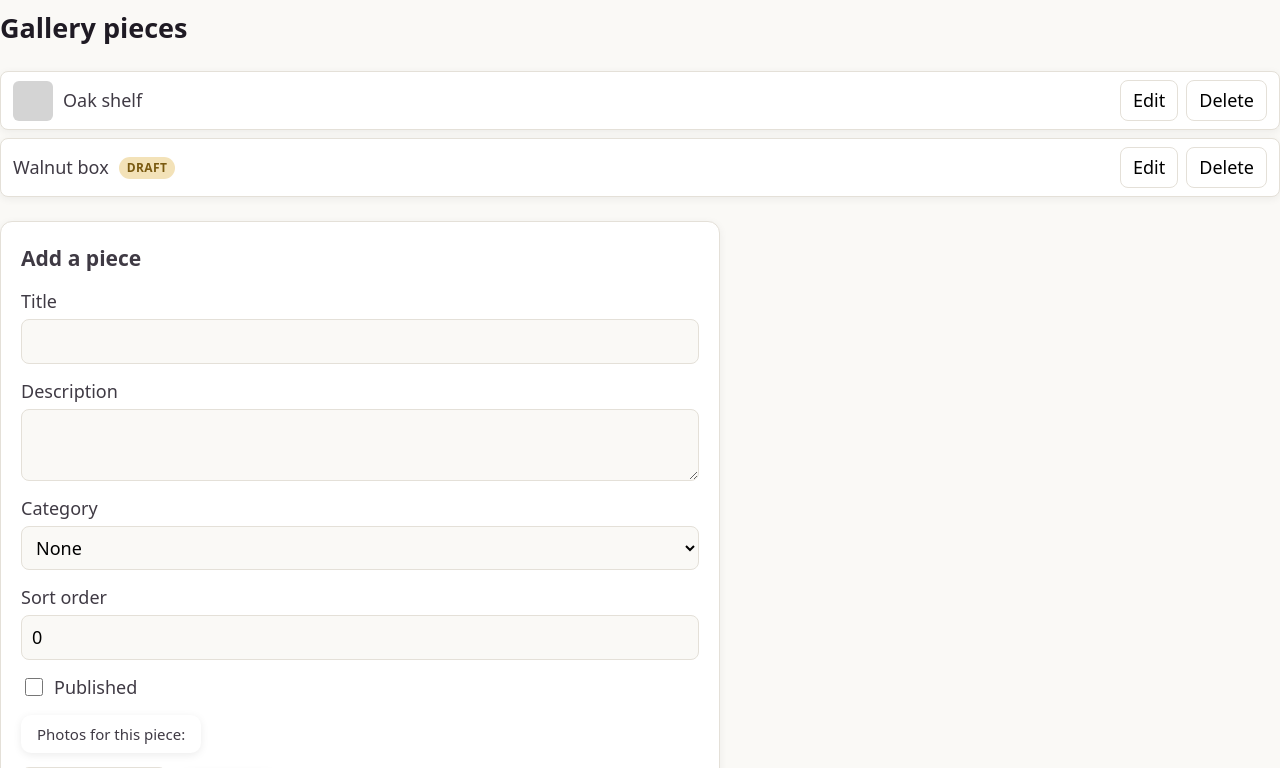
GalleryPanel › shows a save failure message
Expected: the text "Oak shelf" is shown, [13,81,142,121]
Type "Fails" into the field labelled "Title" at (360, 341), box [21,319,699,364]
(page scrolled)
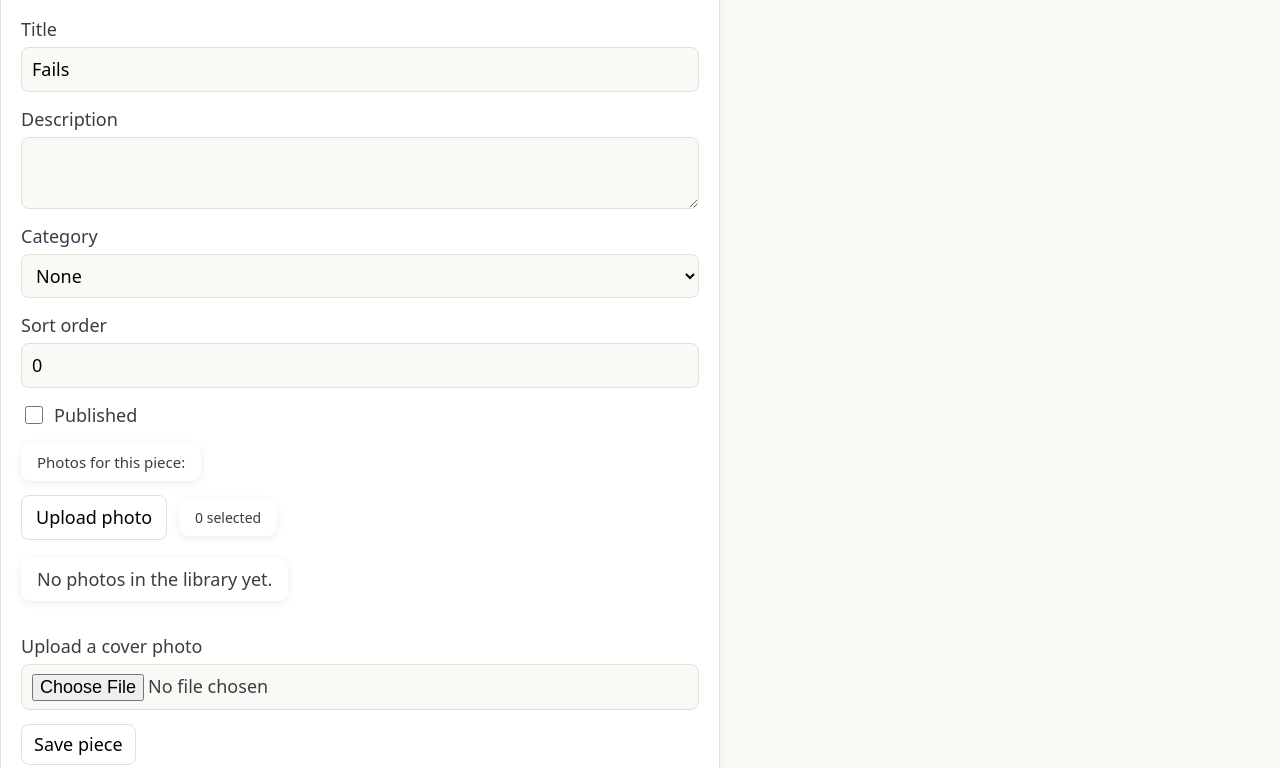
Click the button "Save piece" at (78, 745), box [21,724,136,765]
(page scrolled)
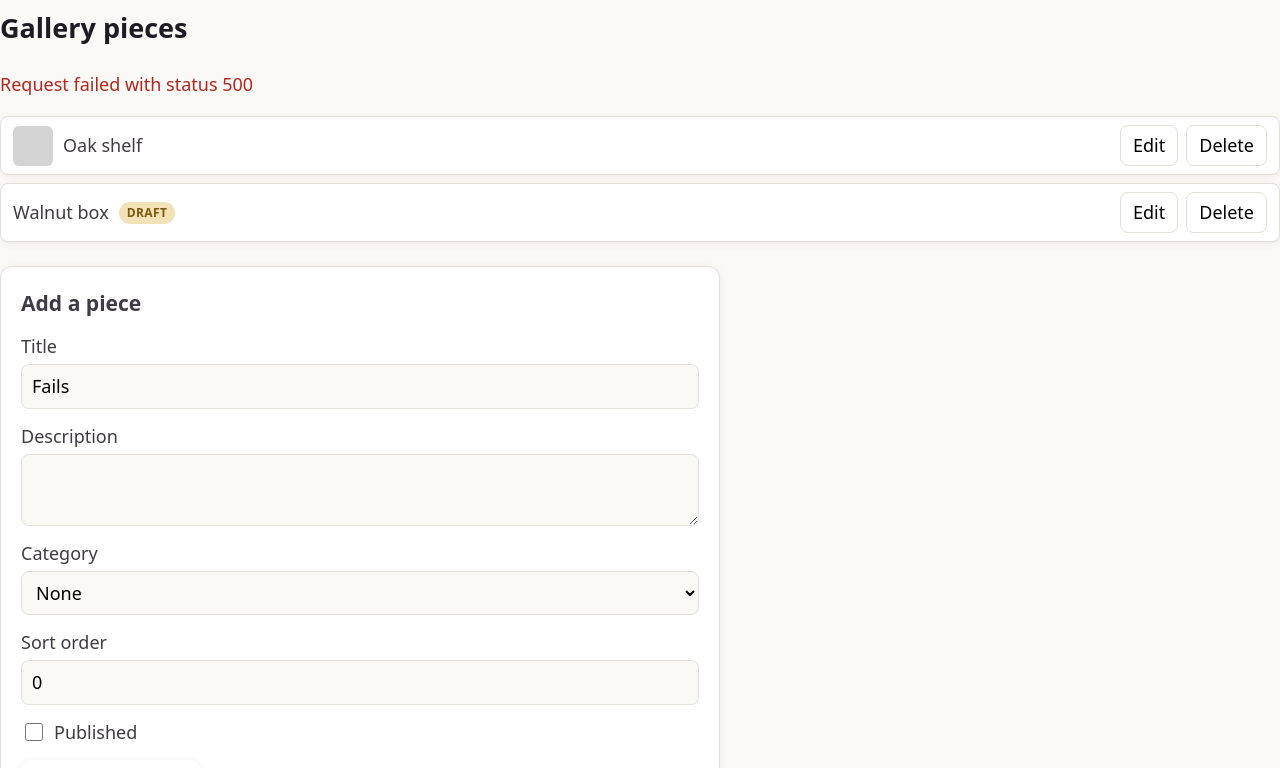
Result: the text "Request failed with status 500" is shown at [0,72,253,96]
